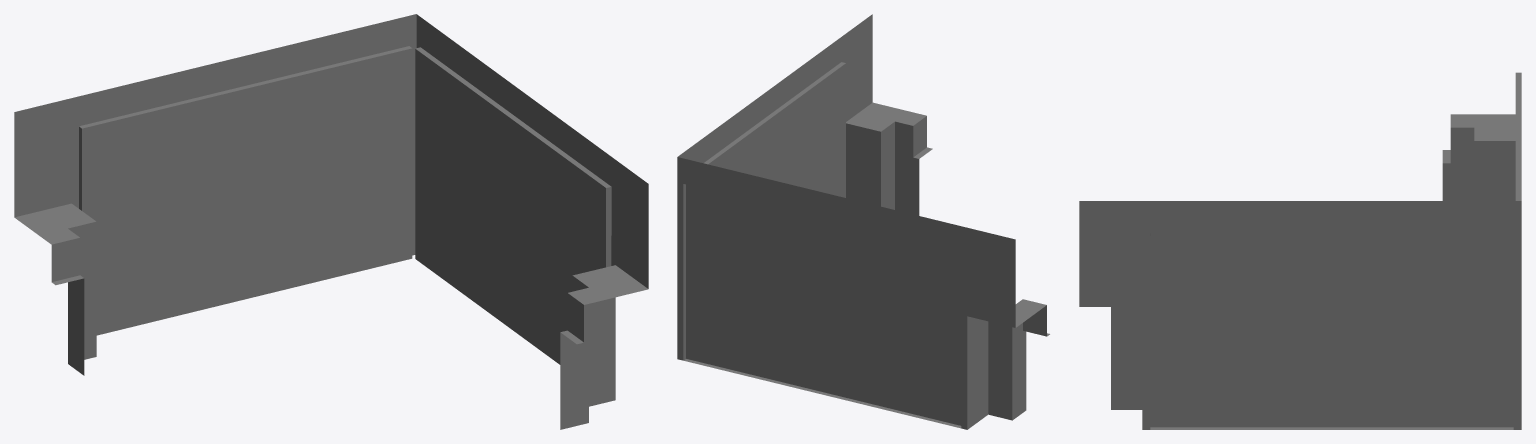
The model's file is tesla_modules_core_wall_outer_01.dae.
The picture shows the model from 3 angles, left to right: view 1: azimuth 30°, elevation 25°; view 2: azimuth 150°, elevation 25°; view 3: azimuth 270°, elevation 25°; orthographic projection. The views are drawn at different scales.
Visible parts, largest first — view 1: polySurface38; view 2: polySurface38; view 3: polySurface38.
Part boxes in pixels (<box>): polySurface38: <box>14,14,648,429</box>; polySurface38: <box>677,14,1049,429</box>; polySurface38: <box>1079,72,1521,429</box>.
Bounding box in the file's own units: 14000 × 8000 × 14000.
